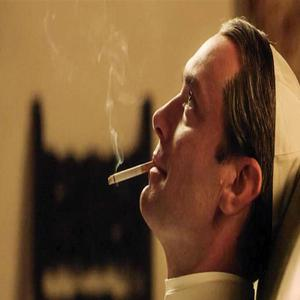cigarette: (104, 160, 157, 187)
